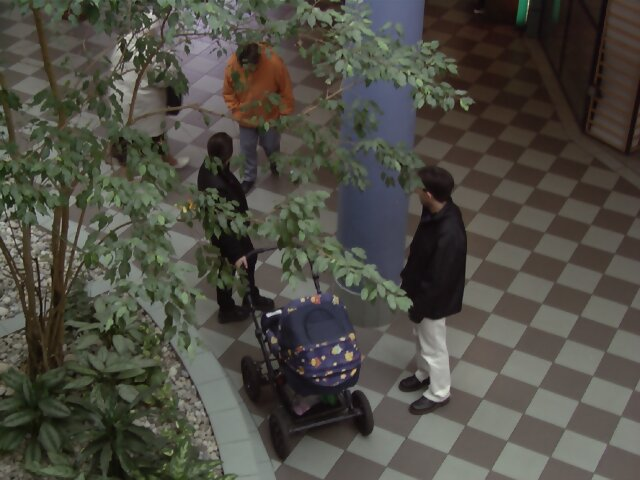person: (191, 123, 277, 328), (401, 163, 465, 411), (216, 32, 307, 187)
